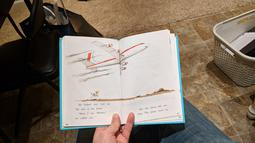text block: (71, 99, 114, 121), (133, 100, 170, 117)
